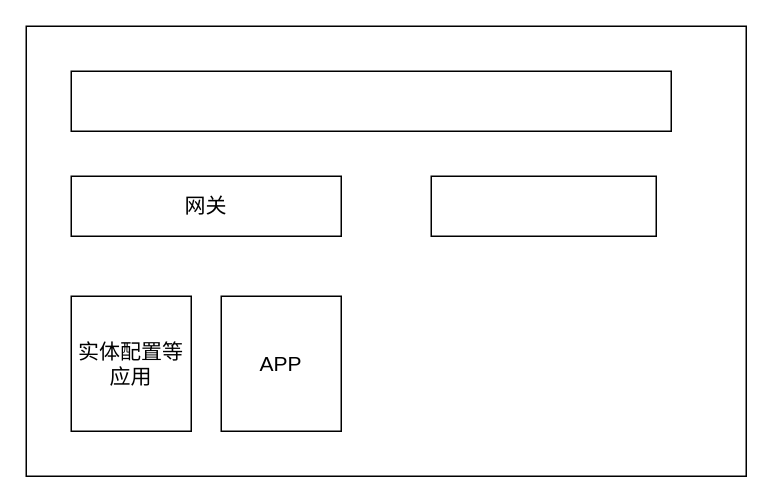
Some shapes in this 773 by 503 pixel diagram are drawn without their labels. The centre of each missing label's shape, as x and y in pixels:
"supPlant-前端nginx" goes at (543,205).
"入口应用" goes at (370,100).
